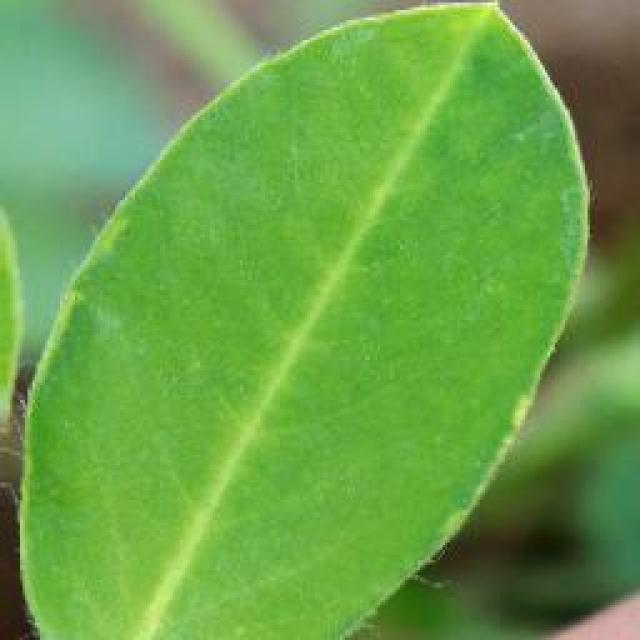Yellow_and_black_sigatoka: (21, 4, 586, 640)
